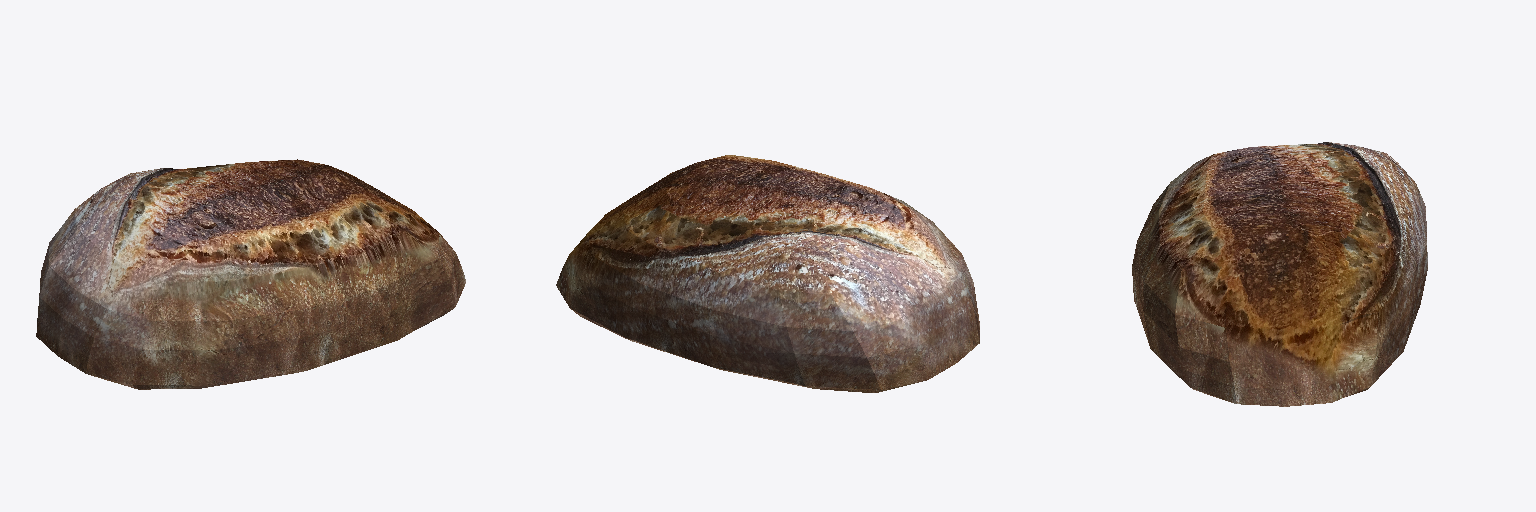
3 renders of one model, left to right at view 1: azimuth 30°, elevation 25°; view 2: azimuth 150°, elevation 25°; view 3: azimuth 270°, elevation 25°, orthographic.
Parts seen in each view (by area): view 1: BreadMesh_Cube.001; view 2: BreadMesh_Cube.001; view 3: BreadMesh_Cube.001.
Part boxes in pixels (x1,y1,x2,y2): BreadMesh_Cube.001: (36, 159, 465, 389); BreadMesh_Cube.001: (556, 155, 979, 392); BreadMesh_Cube.001: (1132, 142, 1427, 406).
Size of the model in its own units: 4.23 by 1.46 by 2.79.
1 materials, 1 textured.